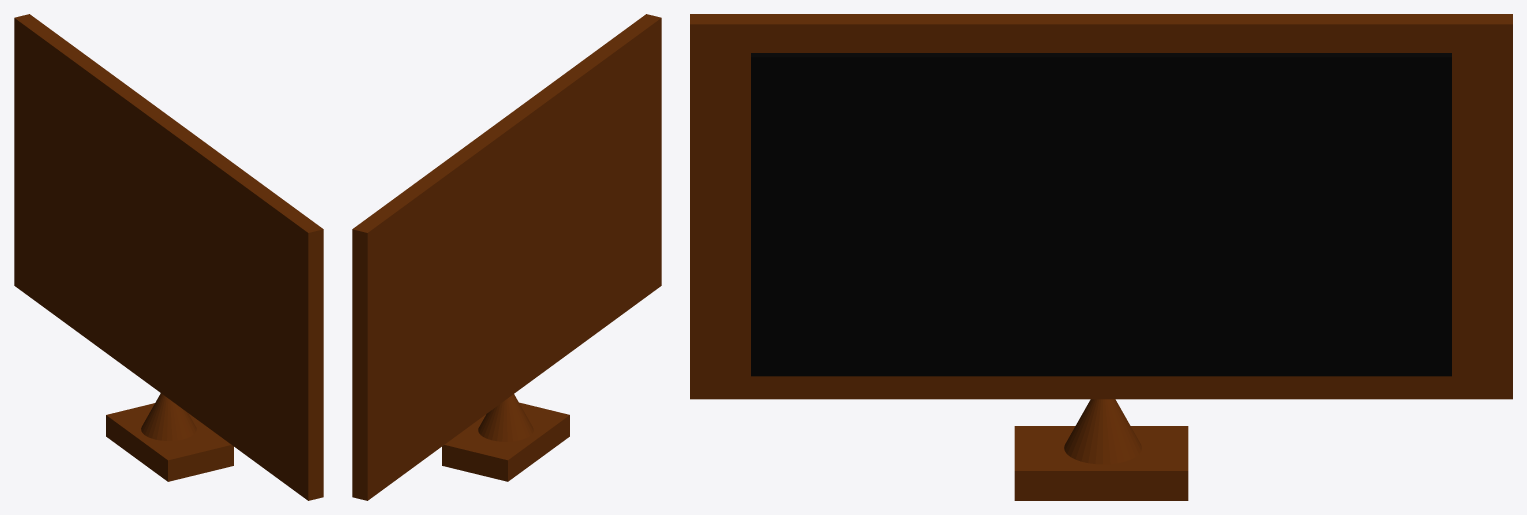
File: screen.glb
3 renders of one model, left to right at view 1: azimuth 30°, elevation 25°; view 2: azimuth 150°, elevation 25°; view 3: azimuth 270°, elevation 25°, orthographic. The views are drawn at different scales.
Parts seen in each view (by area): view 1: Cube.001, Cube.002, Cone; view 2: Cube.001, Cube.002, Cone; view 3: Cube, Cube.001, Cube.002, Cone.
Boxes of the visible parts, x1,y1,x2,y2 form: Cube.001: (14,14,323,500); Cube.002: (106,403,233,481); Cone: (141,393,196,440); Cube.001: (352,14,661,500); Cube.002: (442,402,569,481); Cone: (478,394,533,441); Cube: (751,53,1451,376); Cube.001: (690,14,1512,399); Cube.002: (1014,426,1188,500); Cone: (1064,399,1141,464).
Size of the model in its own units: 0.604 by 2.87 by 4.67.
